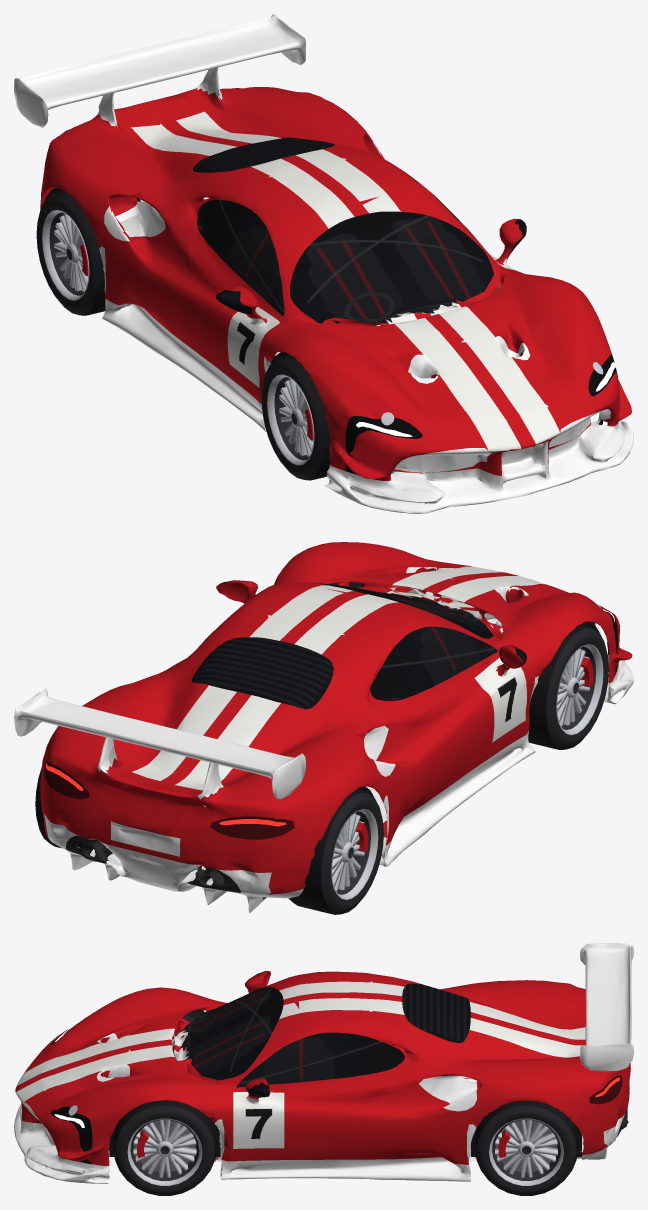
File: falcon.glb
The picture shows the model from 3 angles, top to bottom: view 1: azimuth 30°, elevation 25°; view 2: azimuth 150°, elevation 25°; view 3: azimuth 270°, elevation 25°; orthographic projection. The views are drawn at different scales.
Visible parts, largest first — view 1: body, wheel_FR, wheel_RR; view 2: body, wheel_FR, wheel_RR; view 3: body, wheel_FL, wheel_RL.
Boxes of the visible parts, x1,y1,x2,y2 form: body: [14, 14, 633, 513]; wheel_FR: [261, 354, 330, 480]; wheel_RR: [36, 190, 105, 315]; body: [14, 542, 633, 912]; wheel_FR: [528, 624, 608, 749]; wheel_RR: [288, 789, 383, 914]; body: [14, 943, 633, 1184]; wheel_FL: [113, 1100, 216, 1195]; wheel_RL: [475, 1100, 577, 1195].
Bounding box in the file's own units: 2.14 × 1.22 × 4.63.
16 materials, 5 textured.
